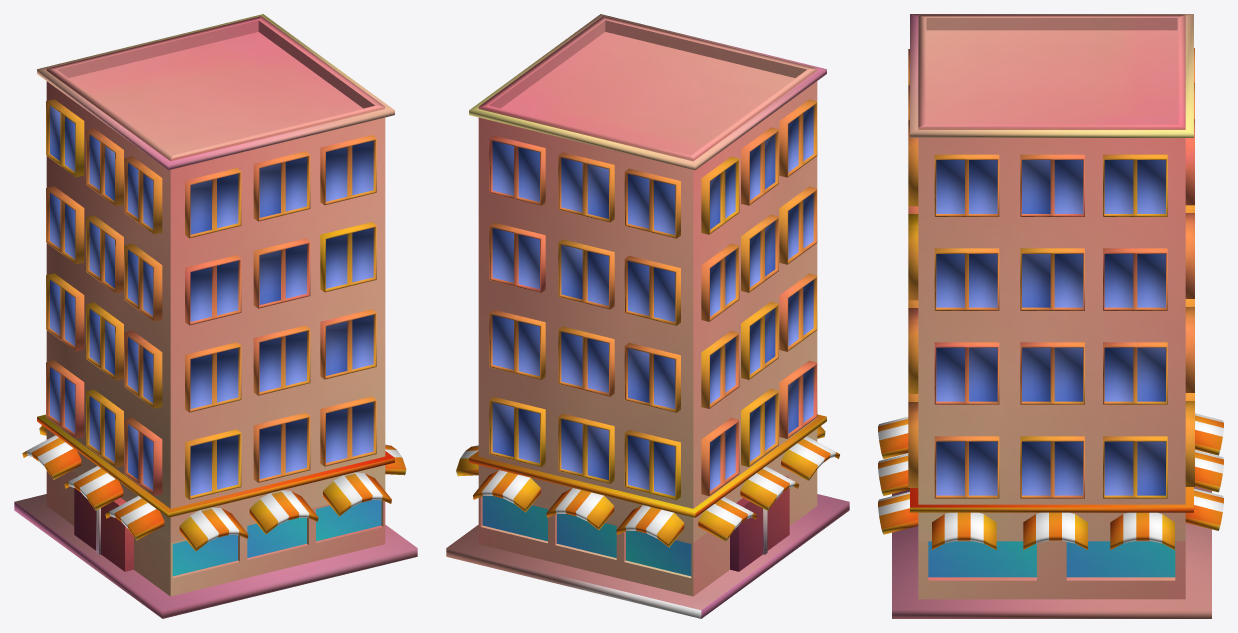
The model's file is House1.fbx.
The picture shows the model from 3 angles, left to right: view 1: azimuth 30°, elevation 25°; view 2: azimuth 150°, elevation 25°; view 3: azimuth 270°, elevation 25°; orthographic projection. The views are drawn at different scales.
Visible parts, largest first — view 1: House.1; view 2: House.1; view 3: House.1.
Part boxes in pixels (bbox=[...]): House.1: bbox=[14, 14, 417, 618]; House.1: bbox=[446, 14, 849, 618]; House.1: bbox=[878, 14, 1223, 618].
Bounding box in the file's own units: 1065 × 1638 × 1068.
1 material, 1 textured.
